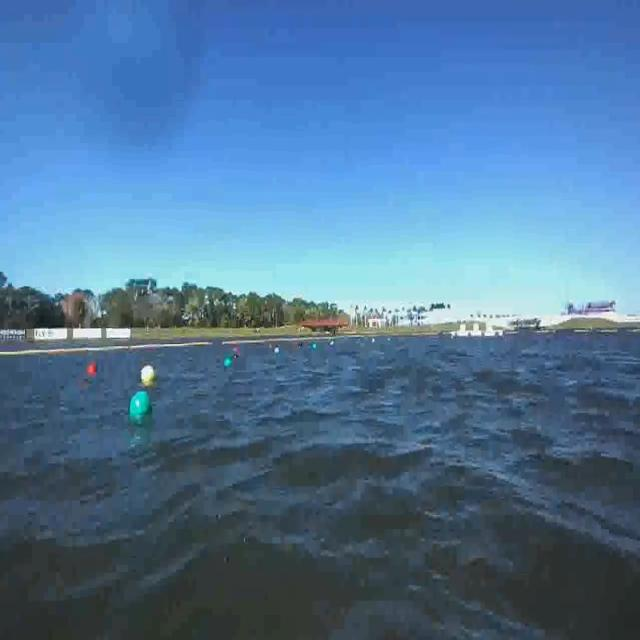green-buoy: (129, 392, 154, 426), (222, 353, 234, 368)
red-buoy: (86, 361, 96, 374)
yellow-buoy: (142, 366, 155, 386)
